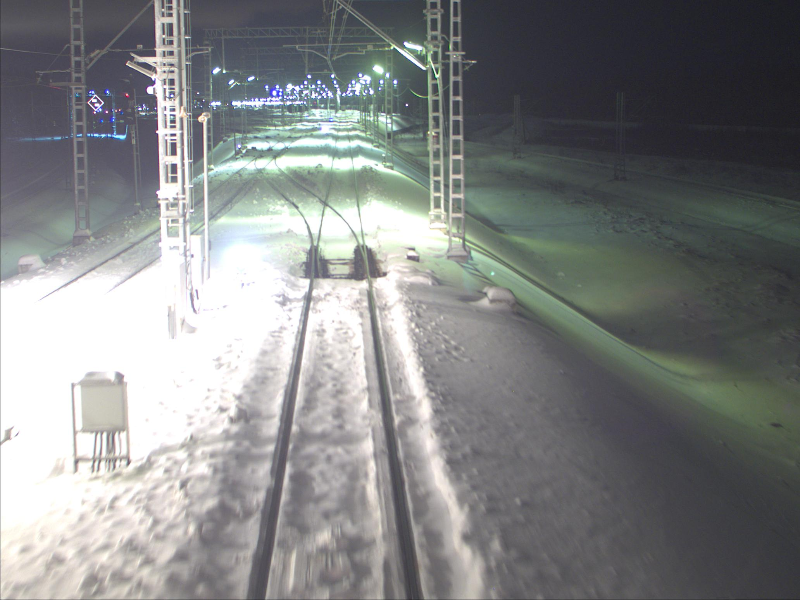left: (302, 191, 376, 277)
